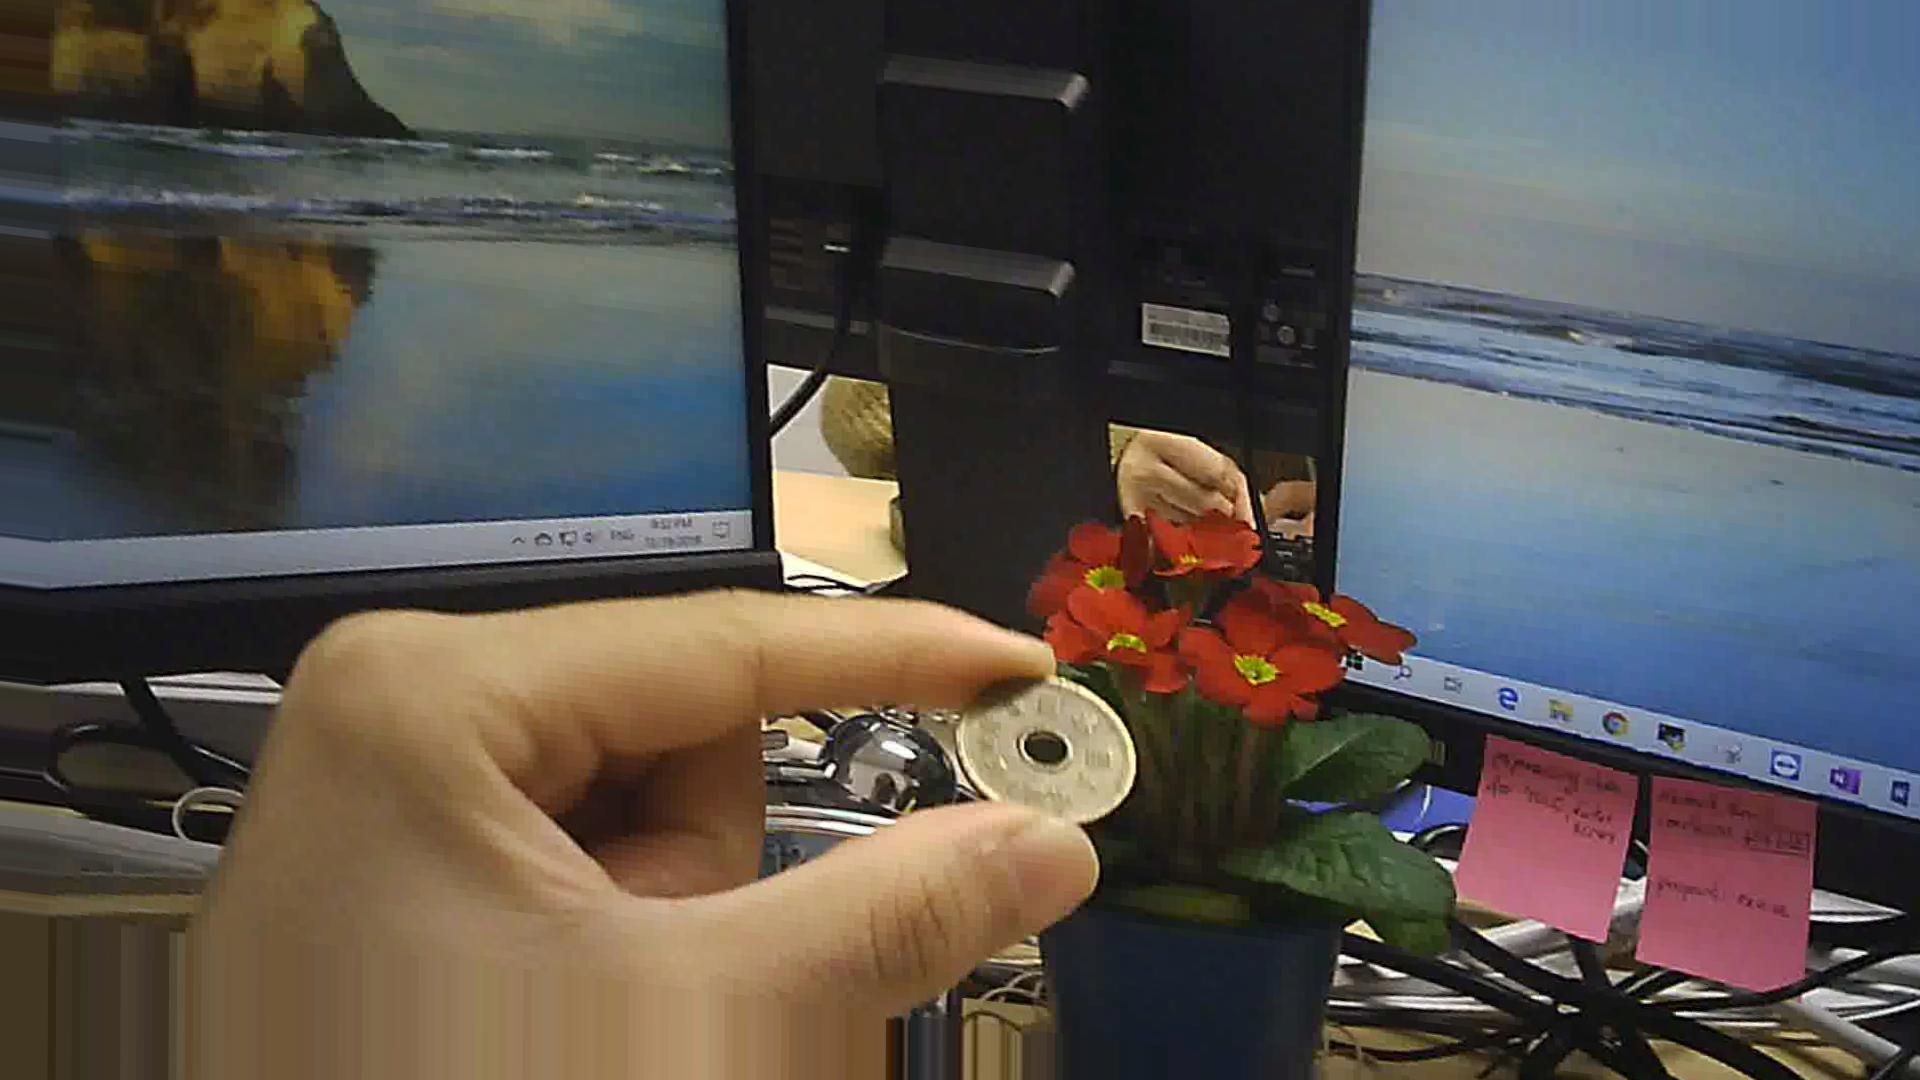5 Yen: (951, 659, 1155, 847)
